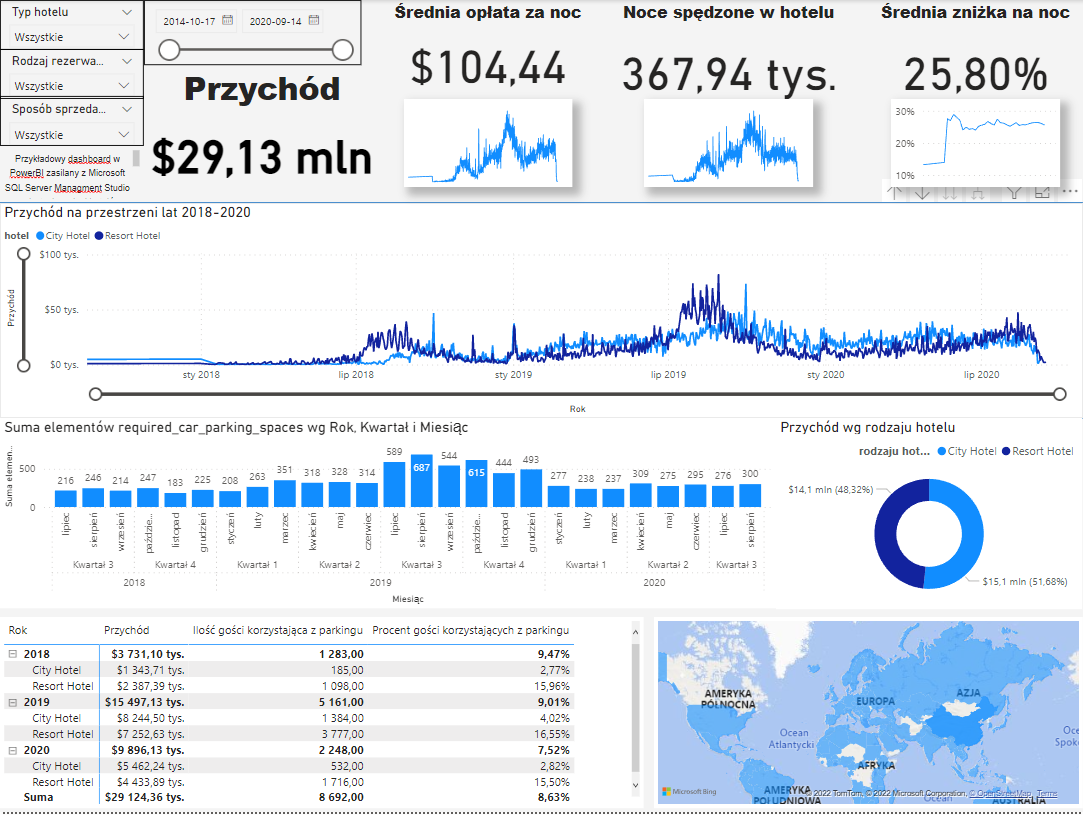

Layout of this report page (visuals, bound fields, positions):
{"tool":"powerbi","page":{"name":"Strona 1","canvas":[1280,960],"ordinal":0},"visuals":[{"type":"shape","box":[0,224.4,1280,31.1],"z":0},{"type":"shape","box":[0,478.9,1280,30],"z":1000},{"type":"card","title":"Przychód","fields":{"Values":["Sum(Zapytanie1.Revenue)"]},"box":[160.8,76.8,297.9,150.1],"z":2000},{"type":"card","title":"Średnia opłata za noc","fields":{"Values":["Avg(Zapytanie1.adr)"]},"box":[426.8,0,300.3,117],"z":3000},{"type":"card","title":"Noce spędzone w hotelu","fields":{"Values":["Zapytanie1.Total Nights"]},"box":[668,0,386.6,133.6],"z":4000},{"type":"card","title":"Średnia zniżka na noc","fields":{"Values":["Avg(Zapytanie1.Discount)"]},"box":[1026.2,0,254.2,133.6],"z":5000},{"type":"lineChart","title":"Przychód na przestrzeni lat 2018-2020","fields":{"Y":["Sum(Zapytanie1.Revenue)"],"Category":["Zapytanie1.reservation_status_date.Odmiana.Hierarchia dat.Rok","Zapytanie1.reservation_status_date.Odmiana.Hierarchia dat.Kwartał","Zapytanie1.reservation_status_date.Odmiana.Hierarchia dat.Miesiąc","Zapytanie1.reservation_status_date.Odmiana.Hierarchia dat.Dzień"],"Series":["Zapytanie1.hotel"]},"box":[0,240,1280,254.4],"z":6000},{"type":"slicer","fields":{"Values":["Zapytanie1.customer_type"]},"box":[0,57.9,170.2,59.1],"z":7000},{"type":"slicer","fields":{"Values":["Zapytanie1.hotel"]},"box":[0,0,170.2,59.1],"z":8000},{"type":"lineChart","fields":{"Y":["Sum(Zapytanie1.adr)"],"Category":["Zapytanie1.reservation_status_date.Odmiana.Hierarchia dat.Rok","Zapytanie1.reservation_status_date.Odmiana.Hierarchia dat.Kwartał","Zapytanie1.reservation_status_date.Odmiana.Hierarchia dat.Miesiąc","Zapytanie1.reservation_status_date.Odmiana.Hierarchia dat.Dzień"]},"box":[477.6,117,198.6,104],"z":9000},{"type":"lineChart","fields":{"Y":["Zapytanie1.Total Nights"],"Category":["Zapytanie1.reservation_status_date.Odmiana.Hierarchia dat.Rok","Zapytanie1.reservation_status_date.Odmiana.Hierarchia dat.Kwartał","Zapytanie1.reservation_status_date.Odmiana.Hierarchia dat.Miesiąc","Zapytanie1.reservation_status_date.Odmiana.Hierarchia dat.Dzień"]},"box":[761.4,117,199.8,104],"z":10000},{"type":"lineChart","fields":{"Category":["Zapytanie1.reservation_status_date.Odmiana.Hierarchia dat.Rok","Zapytanie1.reservation_status_date.Odmiana.Hierarchia dat.Kwartał","Zapytanie1.reservation_status_date.Odmiana.Hierarchia dat.Miesiąc"],"Y":["Avg(Zapytanie1.Discount)"]},"box":[1053.4,117,199.8,104],"z":11000},{"type":"donutChart","fields":{"Y":["Sum(Zapytanie1.Revenue)"],"Category":["Zapytanie1.hotel"]},"box":[917.8,494.4,362.2,225.6],"z":12000},{"type":"columnChart","fields":{"Y":["Sum(Zapytanie1.required_car_parking_spaces)"],"Category":["Zapytanie1.startDate.Odmiana.Hierarchia dat.Rok","Zapytanie1.startDate.Odmiana.Hierarchia dat.Kwartał","Zapytanie1.startDate.Odmiana.Hierarchia dat.Miesiąc"]},"box":[0,494.7,917.9,225.4],"z":13000},{"type":"pivotTable","fields":{"Rows":["Zapytanie1.reservation_status_date.Odmiana.Hierarchia dat.Rok","Zapytanie1.hotel"],"Values":["Sum(Zapytanie1.Revenue)","Sum(Zapytanie1.required_car_parking_spaces)","Zapytanie1.Procent gości korzystających z parkingu"]},"box":[0,729.5,761.4,225.8],"z":14000},{"type":"filledMap","fields":{"Category":["Zapytanie1.country"]},"box":[773.2,729.5,507.2,225.8],"z":16000},{"type":"slicer","fields":{"Values":["Zapytanie1.distribution_channel"]},"box":[0,113.5,170.2,59.1],"z":17000},{"type":"slicer","fields":{"Values":["Zapytanie1.reservation_status_date"]},"box":[170.2,0,256.6,76.8],"z":18000},{"type":"textbox","box":[0,172.6,170.2,67.4],"z":19500}]}

Visuals, with their boxes in screenshot pixels (x1, y1, x2, y2), scaled from the page's 1280x960 canvas onto the 1083x815 screenshot:
shape: (0, 191, 1082, 217)
shape: (0, 407, 1082, 432)
"Przychód" card: (136, 65, 388, 193)
"Średnia opłata za noc" card: (361, 0, 615, 99)
"Noce spędzone w hotelu" card: (565, 0, 892, 113)
"Średnia zniżka na noc" card: (868, 0, 1082, 113)
"Przychód na przestrzeni lat 2018-2020" lineChart: (0, 204, 1082, 420)
slicer - Zapytanie1.customer_type: (0, 49, 144, 99)
slicer - Zapytanie1.hotel: (0, 0, 144, 50)
lineChart - Sum(Zapytanie1.adr) x Zapytanie1.reservation_status_date.Odmiana.Hierarchia dat.Rok: (404, 99, 572, 188)
lineChart - Zapytanie1.Total Nights x Zapytanie1.reservation_status_date.Odmiana.Hierarchia dat.Rok: (644, 99, 813, 188)
lineChart - Zapytanie1.reservation_status_date.Odmiana.Hierarchia dat.Rok x Zapytanie1.reservation_status_date.Odmiana.Hierarchia dat.Kwartał: (891, 99, 1060, 188)
donutChart - Sum(Zapytanie1.Revenue) x Zapytanie1.hotel: (777, 420, 1082, 611)
columnChart - Sum(Zapytanie1.required_car_parking_spaces) x Zapytanie1.startDate.Odmiana.Hierarchia dat.Rok: (0, 420, 777, 611)
pivotTable - Zapytanie1.reservation_status_date.Odmiana.Hierarchia dat.Rok x Zapytanie1.hotel: (0, 619, 644, 811)
filledMap - Zapytanie1.country: (654, 619, 1082, 811)
slicer - Zapytanie1.distribution_channel: (0, 96, 144, 147)
slicer - Zapytanie1.reservation_status_date: (144, 0, 361, 65)
textbox: (0, 147, 144, 204)
